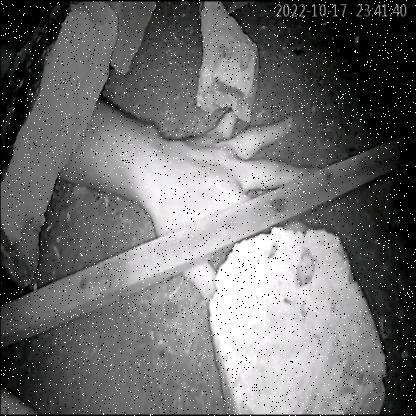hand: (80, 59, 328, 311)
